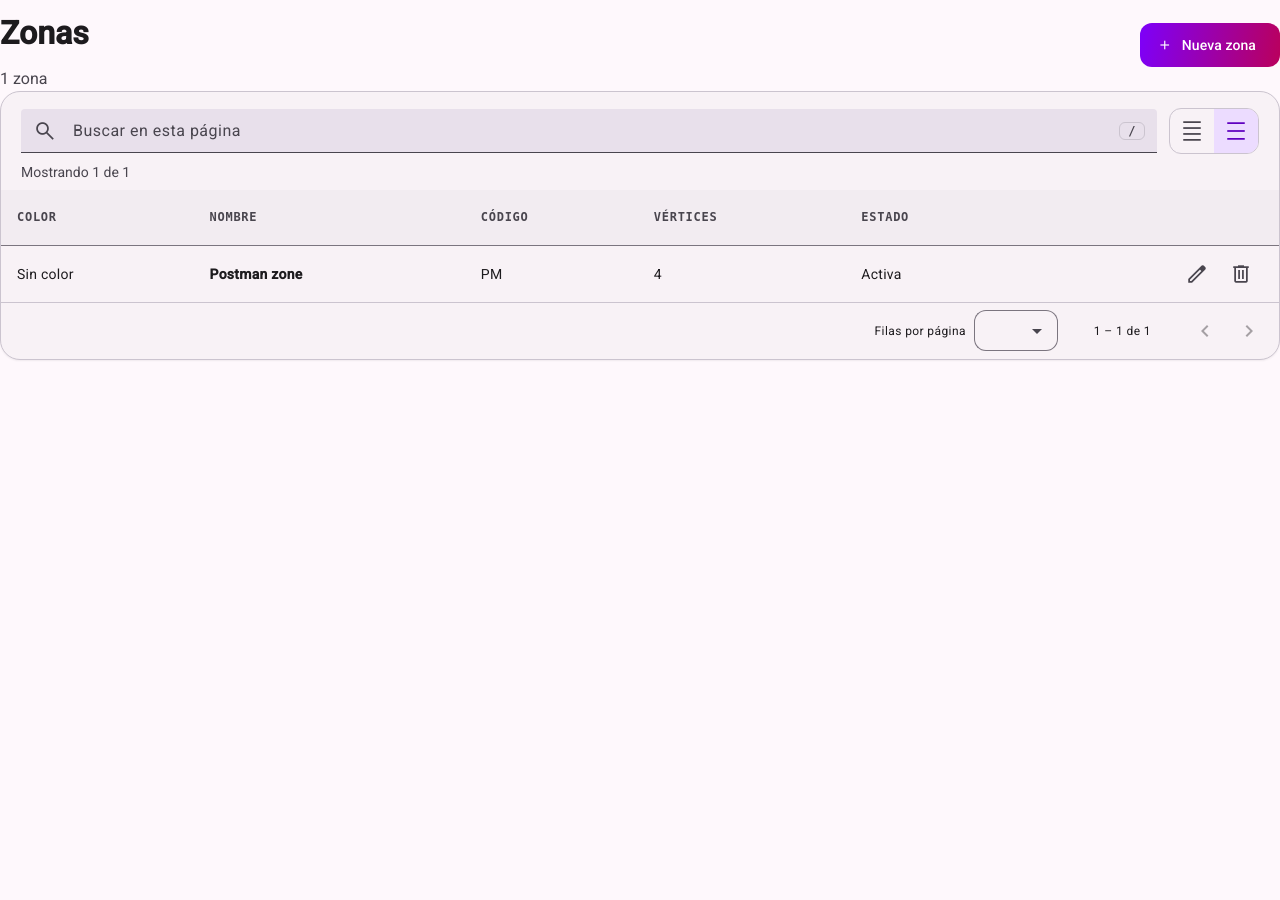
Scenario: ZoneListComponent › borrado › borra tras confirmar (con el tenantId) y vuelve a pedir la lista
Click the button named "Eliminar zona Postman zone" at (1241, 274), box [1219,252,1263,296]
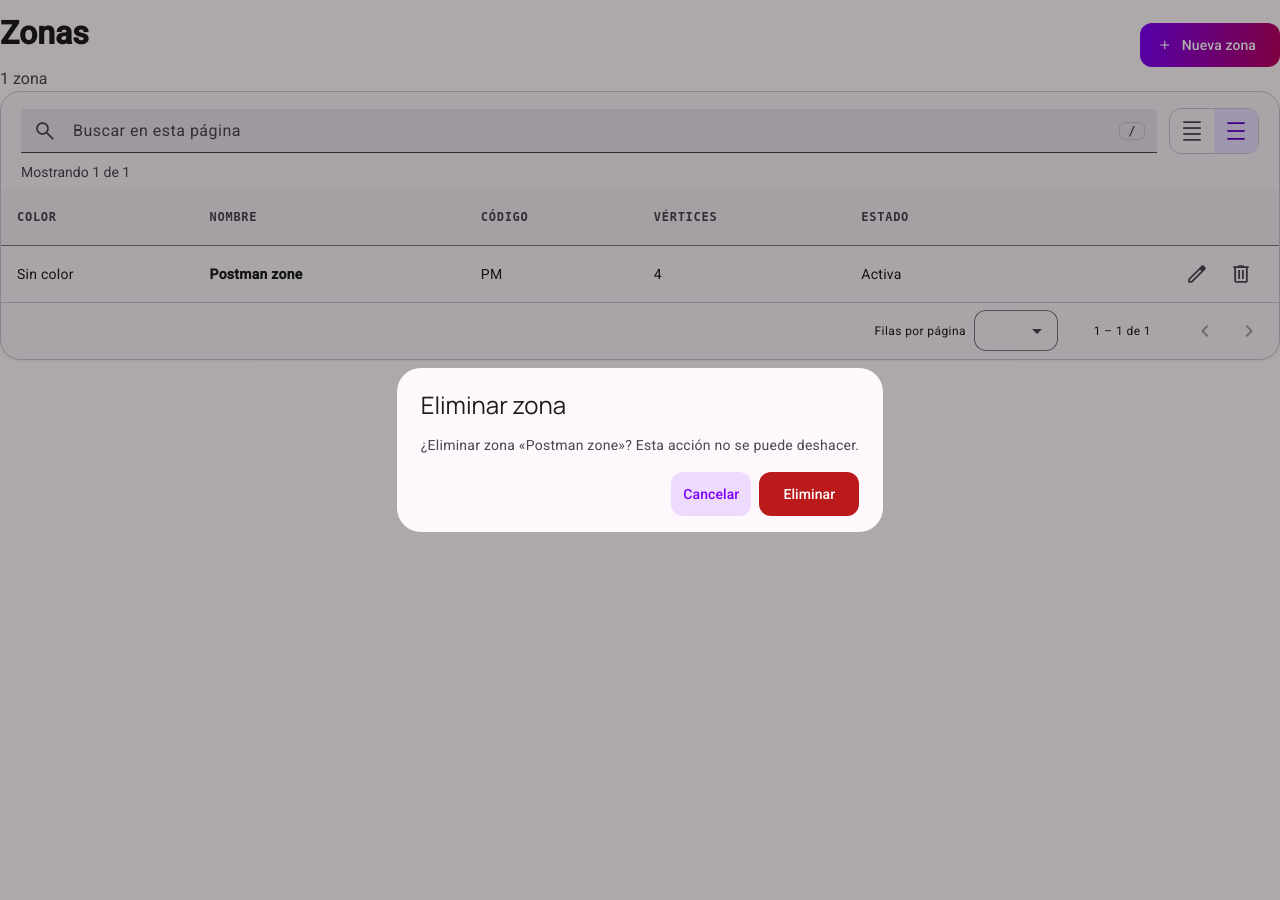
Click the button "Eliminar" at (809, 494), box [759,472,859,516]
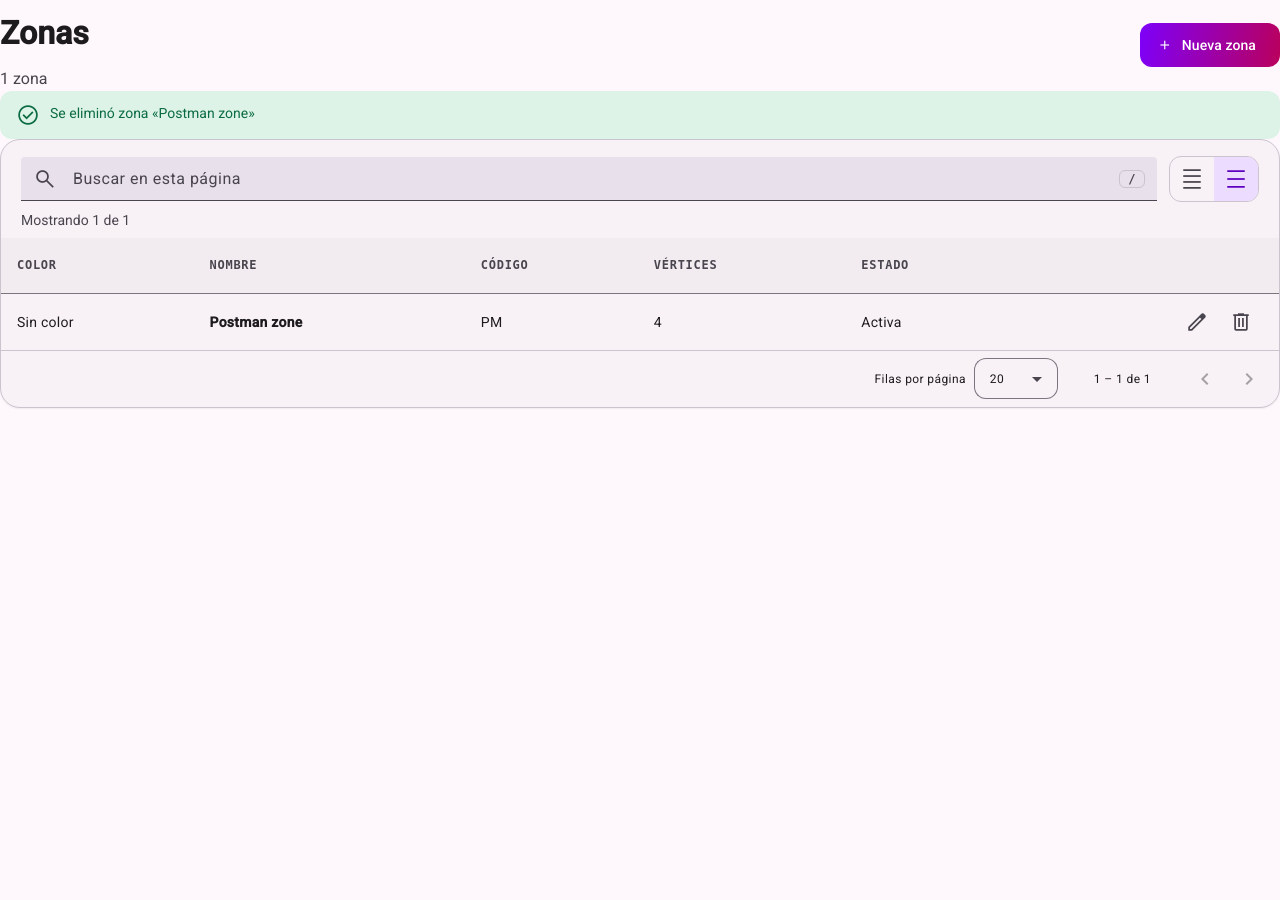
Expected: the text "Se eliminó zona «Postman zone»" is shown, [50,103,255,123]
